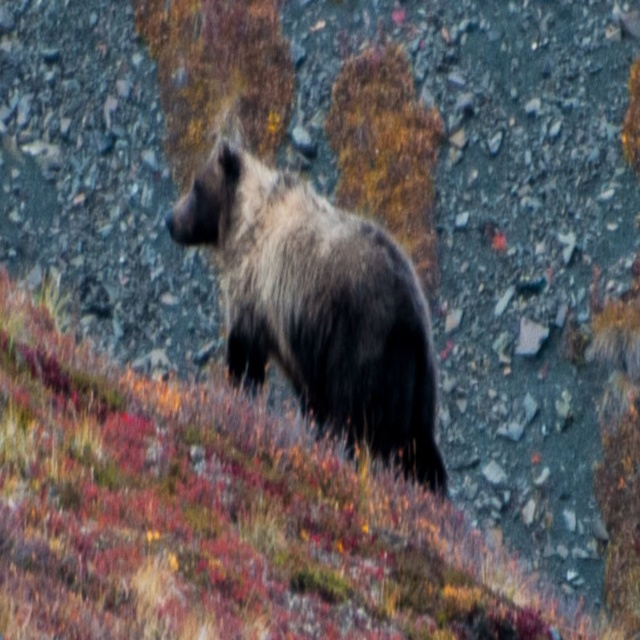Brown bear: (164, 127, 452, 504)
